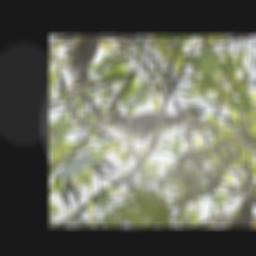Cuckoo: (95, 65, 235, 193)
